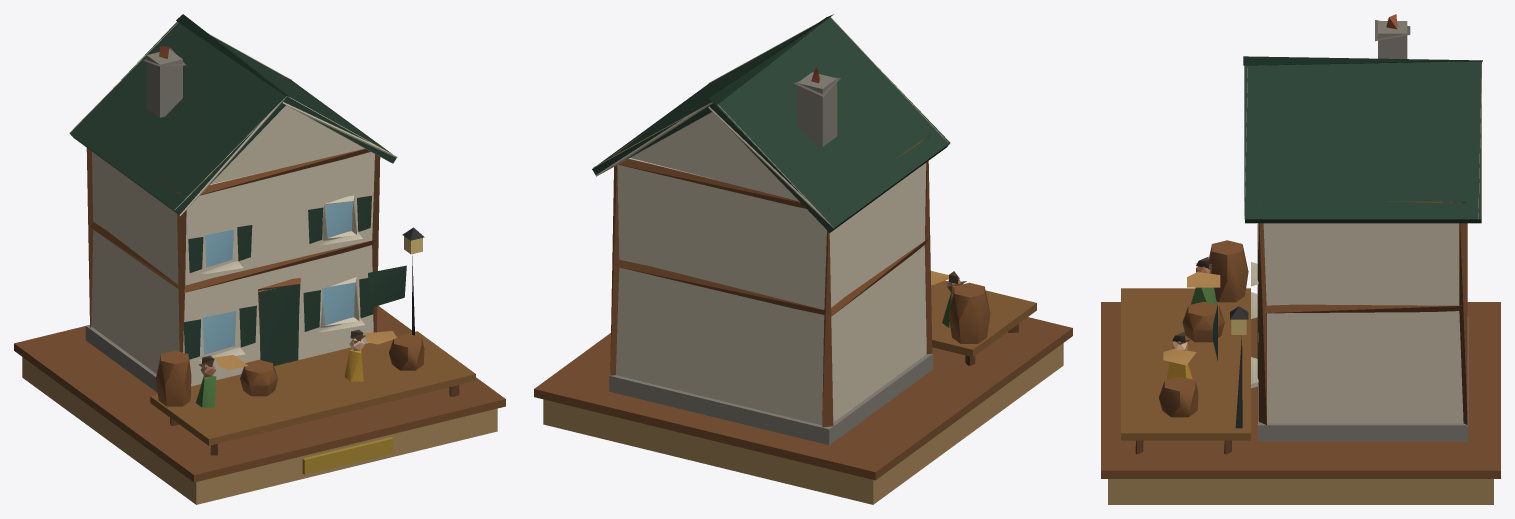
Rendered from harbour_inn_souvenir.glb.
3 renders of one model, left to right at view 1: azimuth 30°, elevation 25°; view 2: azimuth 150°, elevation 25°; view 3: azimuth 270°, elevation 25°, orthographic. The views are drawn at different scales.
Visible parts, largest first — view 1: decor-harbour_inn_souvenir; view 2: decor-harbour_inn_souvenir; view 3: decor-harbour_inn_souvenir.
Boxes of the visible parts, x1,y1,x2,y2 form: decor-harbour_inn_souvenir: (14, 14, 505, 504); decor-harbour_inn_souvenir: (534, 14, 1072, 504); decor-harbour_inn_souvenir: (1101, 14, 1500, 504).
Size of the model in its own units: 1.76 by 1.87 by 1.76.
